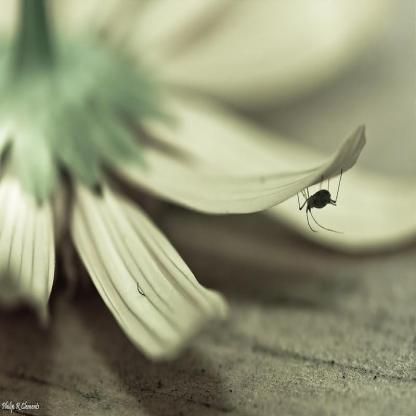aphid: (296, 167, 349, 228)
